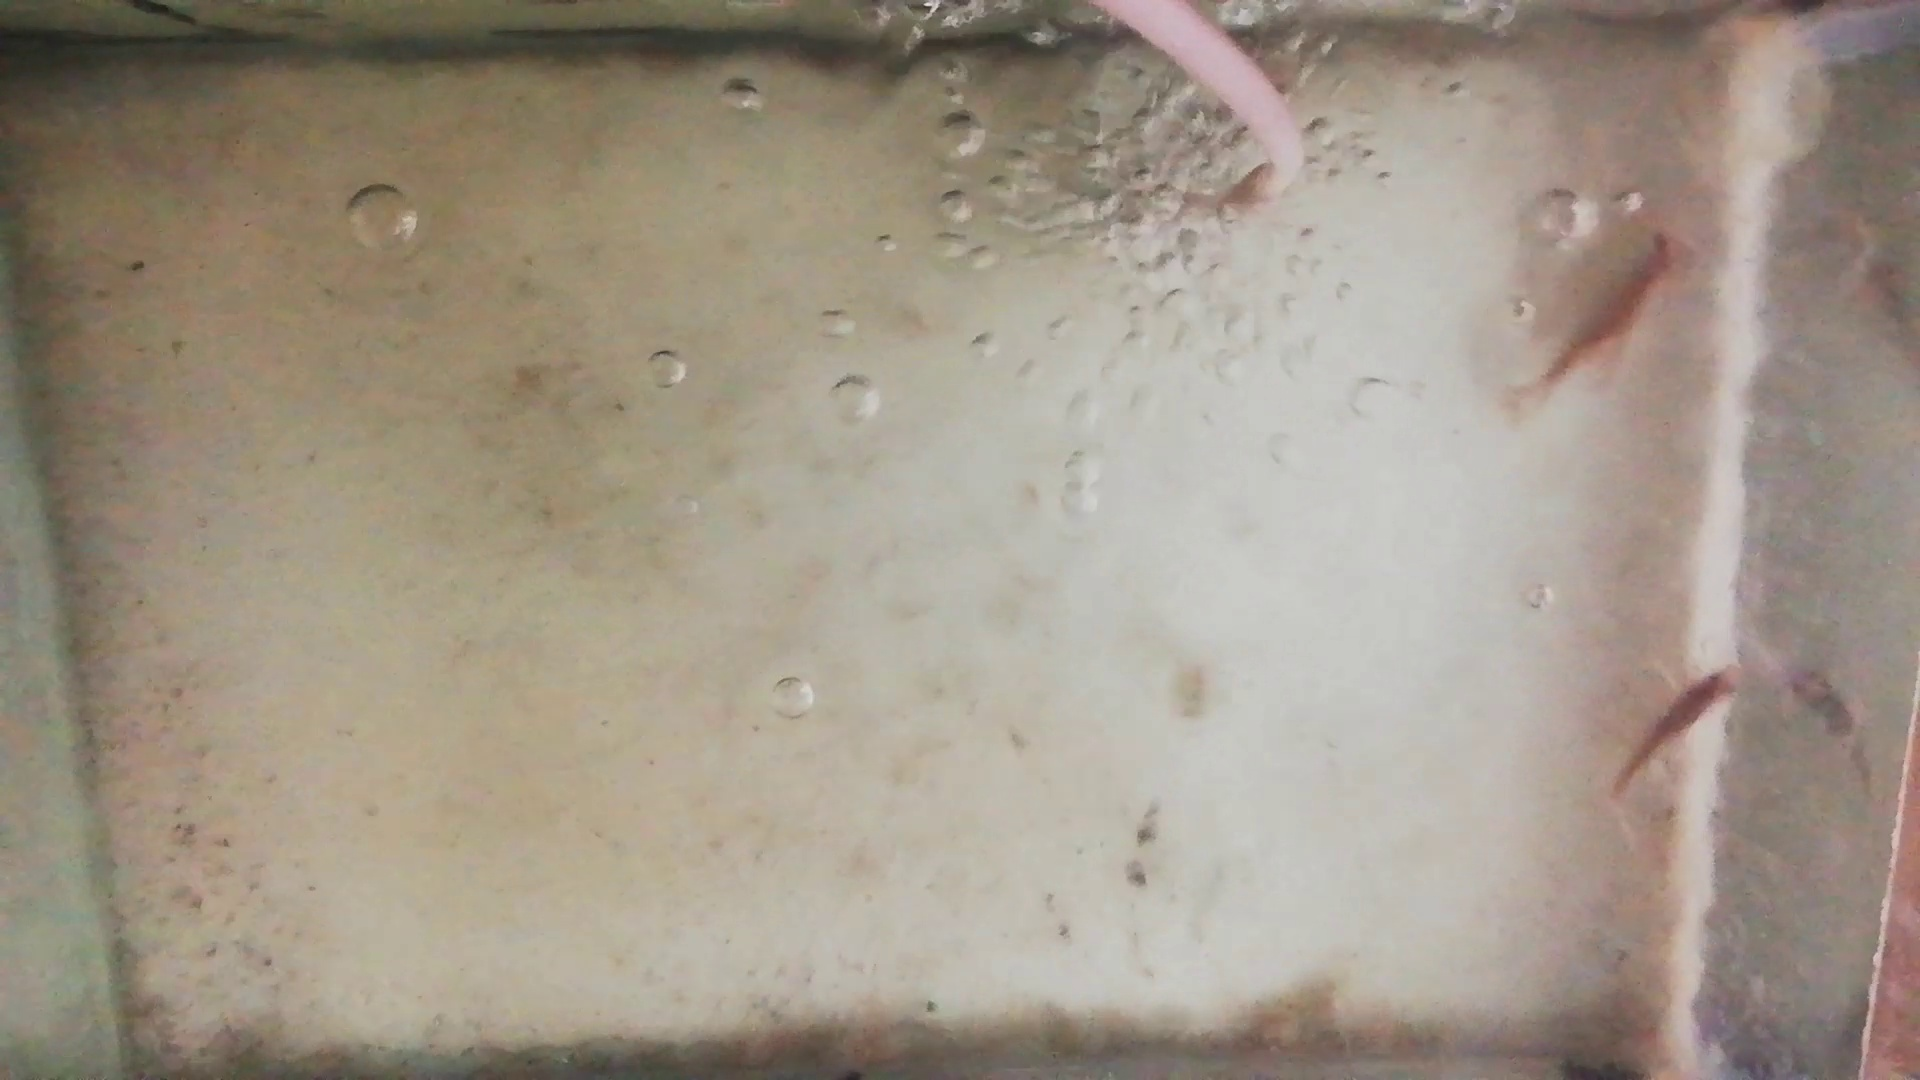fish: (1539, 233, 1695, 400), (1615, 670, 1743, 798)
